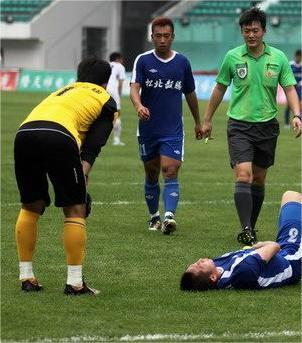bending: (12, 59, 114, 296)
down: (182, 186, 302, 294)
up: (215, 9, 290, 236), (128, 20, 193, 235)
